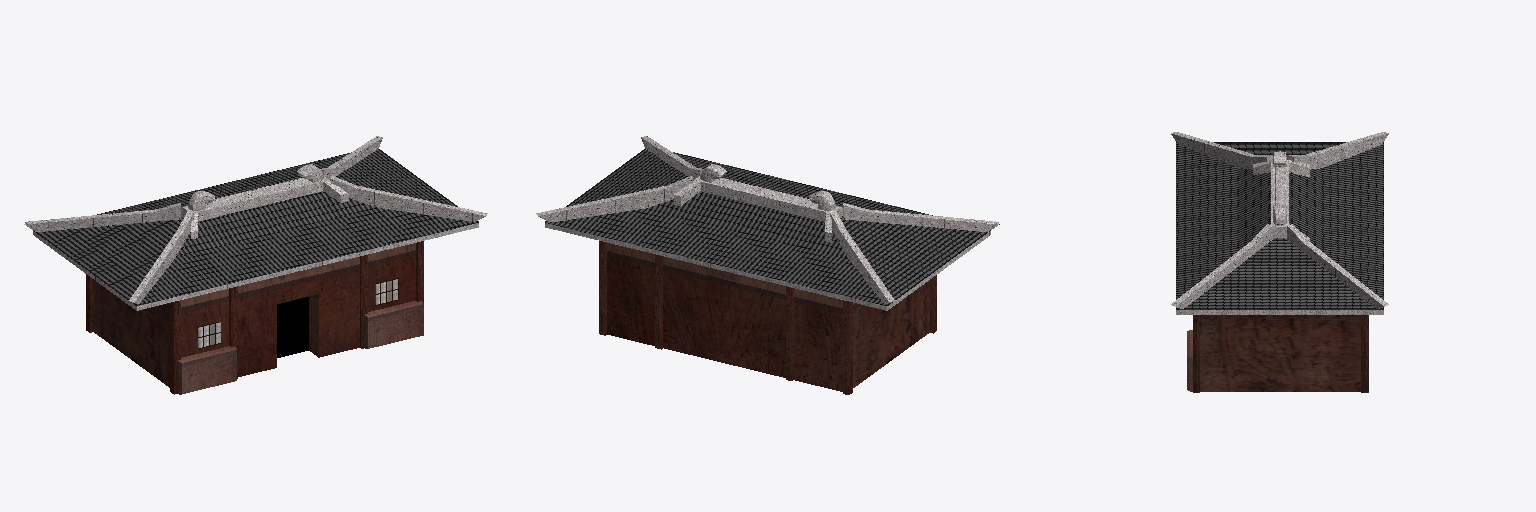
3 renders of one model, left to right at view 1: azimuth 30°, elevation 25°; view 2: azimuth 150°, elevation 25°; view 3: azimuth 270°, elevation 25°, orthographic.
Parts seen in each view (by area): view 1: pCube1, group1_polySurface2, _03, _02, polySurface4_group1, group1_polySurface5, Object01, group2_polySurface3, group1_polySurface3, pCube7, polySurface4_group2, pCube9 (+1 smaller); view 2: pCube1, group1_polySurface5, _03, _02, group1_polySurface2, polySurface4_group2, Object01, group1_polySurface3, group2_polySurface3, pCube12, polySurface4_group1, pCube13 (+2 smaller); view 3: pCube1, group1_polySurface2, group1_polySurface5, _03, polySurface4_group1, polySurface4_group2, _02, group2_polySurface3, group1_polySurface3, Object01, pCube14, pCube10.
Part boxes in pixels (x1,y1,x2,y2): pCube1: (93, 243, 423, 394); group1_polySurface2: (137, 191, 478, 305); _03: (33, 149, 478, 305); _02: (181, 176, 348, 238); polySurface4_group1: (331, 176, 487, 221); group1_polySurface5: (97, 153, 349, 214); Object01: (33, 223, 478, 310); group2_polySurface3: (24, 203, 180, 231); group1_polySurface3: (129, 211, 193, 303); pCube7: (170, 300, 180, 394); polySurface4_group2: (320, 136, 382, 179); pCube9: (359, 255, 367, 348); pCube1: (607, 243, 929, 391); group1_polySurface5: (546, 191, 886, 305); _03: (545, 149, 990, 305); _02: (674, 176, 842, 242); group1_polySurface2: (673, 152, 932, 216); polySurface4_group2: (536, 176, 692, 222); Object01: (545, 223, 990, 310); group1_polySurface3: (843, 203, 999, 231); group2_polySurface3: (830, 211, 894, 303); pCube12: (843, 300, 852, 394); polySurface4_group1: (641, 136, 703, 179); pCube13: (655, 254, 663, 349); pCube1: (1187, 315, 1360, 391); group1_polySurface2: (1176, 143, 1270, 308); group1_polySurface5: (1289, 143, 1383, 308); _03: (1176, 142, 1383, 309); polySurface4_group1: (1171, 224, 1272, 308); polySurface4_group2: (1287, 224, 1388, 308); _02: (1253, 160, 1309, 241); group2_polySurface3: (1287, 132, 1388, 169); group1_polySurface3: (1171, 132, 1272, 168); Object01: (1176, 310, 1383, 314); pCube14: (1361, 315, 1368, 392); pCube10: (1193, 315, 1199, 392).
Bounding box in the file's own units: 67.01 × 27.18 × 35.46.
Materials: 7 (6 with a texture image).